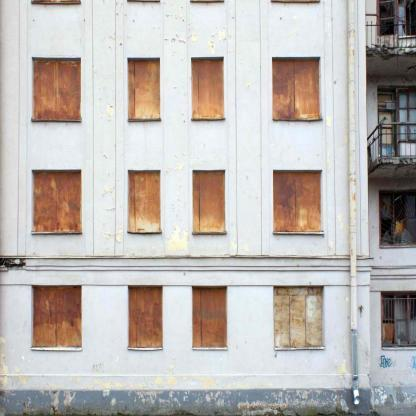Balcony: (367, 121, 416, 180)
Building Outline: (0, 1, 416, 415)
Door: (378, 110, 396, 166)
Facade: (0, 1, 416, 416)
Floor: (0, 38, 416, 144), (0, 153, 416, 256), (0, 0, 415, 28)
Floor Slab: (0, 28, 416, 38), (0, 256, 416, 266), (0, 144, 416, 153)
Ground Floor: (0, 266, 416, 415)
Window: (31, 285, 82, 348), (274, 286, 325, 349), (32, 169, 81, 233), (273, 170, 323, 232), (32, 57, 81, 120), (272, 57, 321, 119), (128, 286, 163, 348), (192, 286, 227, 348), (191, 56, 224, 119), (379, 190, 416, 246), (128, 57, 160, 120), (128, 170, 160, 233), (193, 169, 225, 232), (381, 291, 416, 347), (377, 0, 415, 36), (398, 85, 416, 141), (378, 85, 396, 102)
